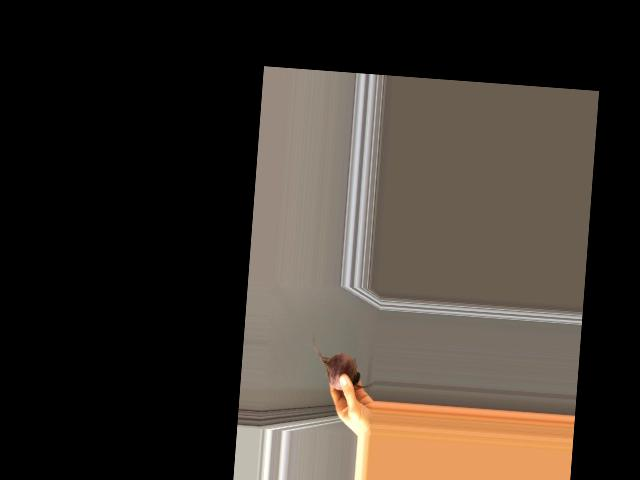beet: (309, 331, 379, 392)
